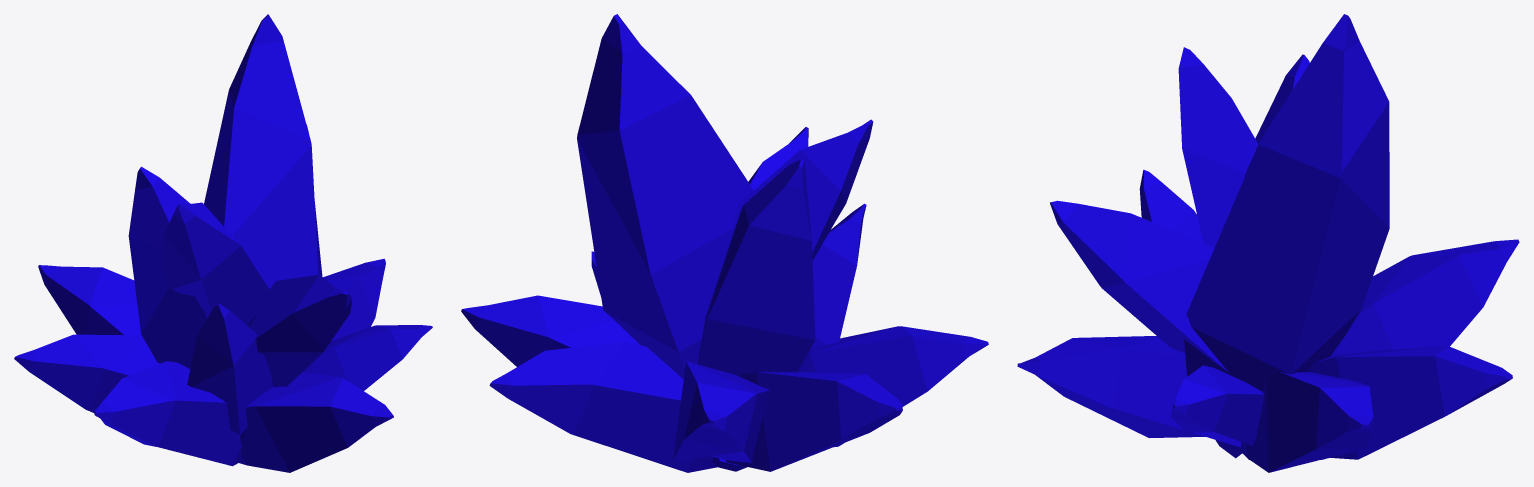
File: Mena_Baja.fbx
The picture shows the model from 3 angles, left to right: view 1: azimuth 30°, elevation 25°; view 2: azimuth 150°, elevation 25°; view 3: azimuth 270°, elevation 25°; orthographic projection. The views are drawn at different scales.
Parts seen in each view (by area): view 1: piedra baja.012; view 2: piedra baja.012; view 3: piedra baja.012.
Boxes of the visible parts, bbox=[...] form: piedra baja.012: bbox=[14, 14, 432, 472]; piedra baja.012: bbox=[461, 14, 988, 472]; piedra baja.012: bbox=[1017, 14, 1519, 472].
Size of the model in its own units: 164 by 163 by 157.
